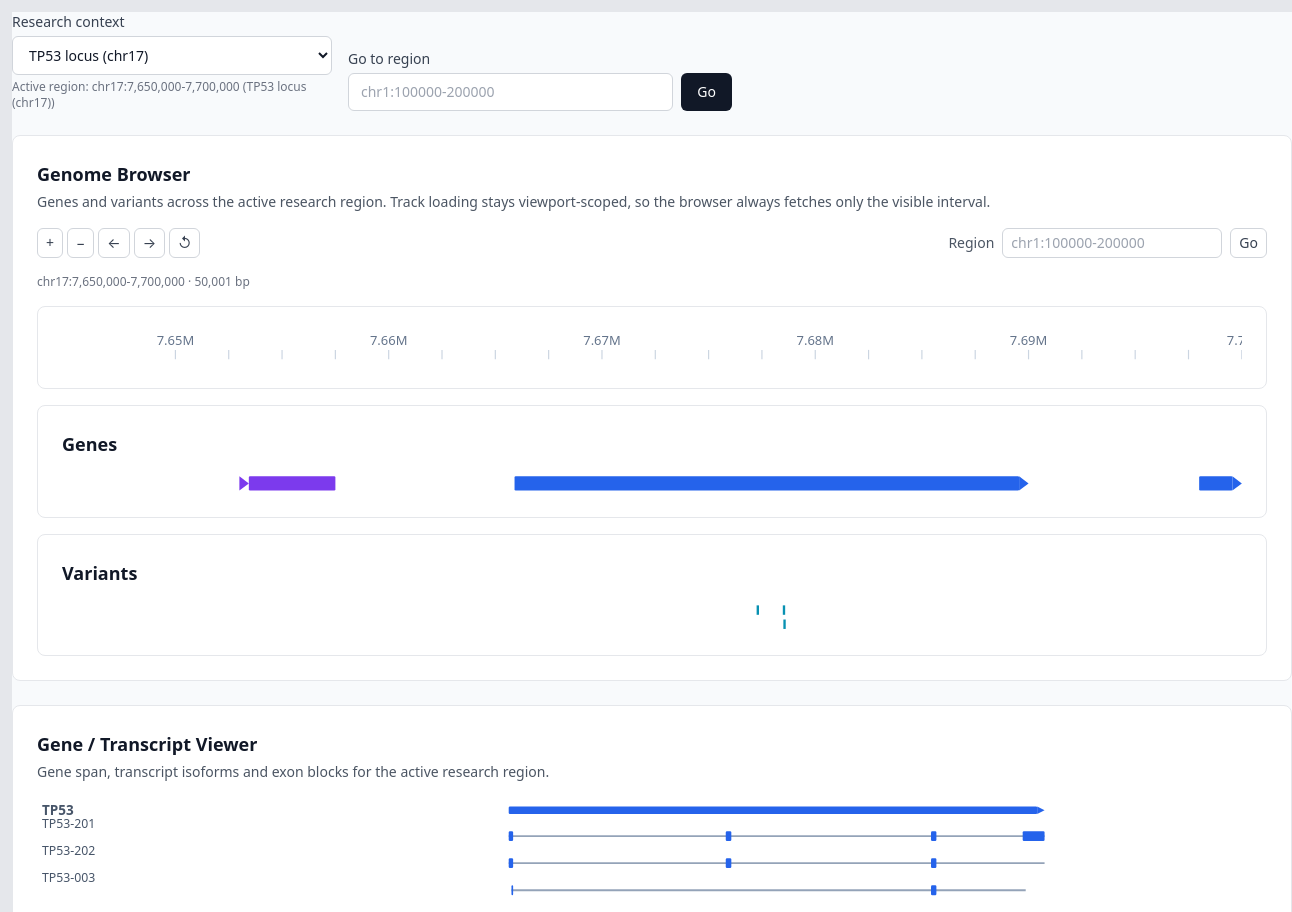
Test: ResearchWorkspace › drives the genome browser tracks with the shared context region
This screenshot has width=1292, height=912.
Select "BRCA1 locus (chr17)" in the dropdown labelled "Research context" at (172, 56), box left=12, top=36, right=332, bottom=75
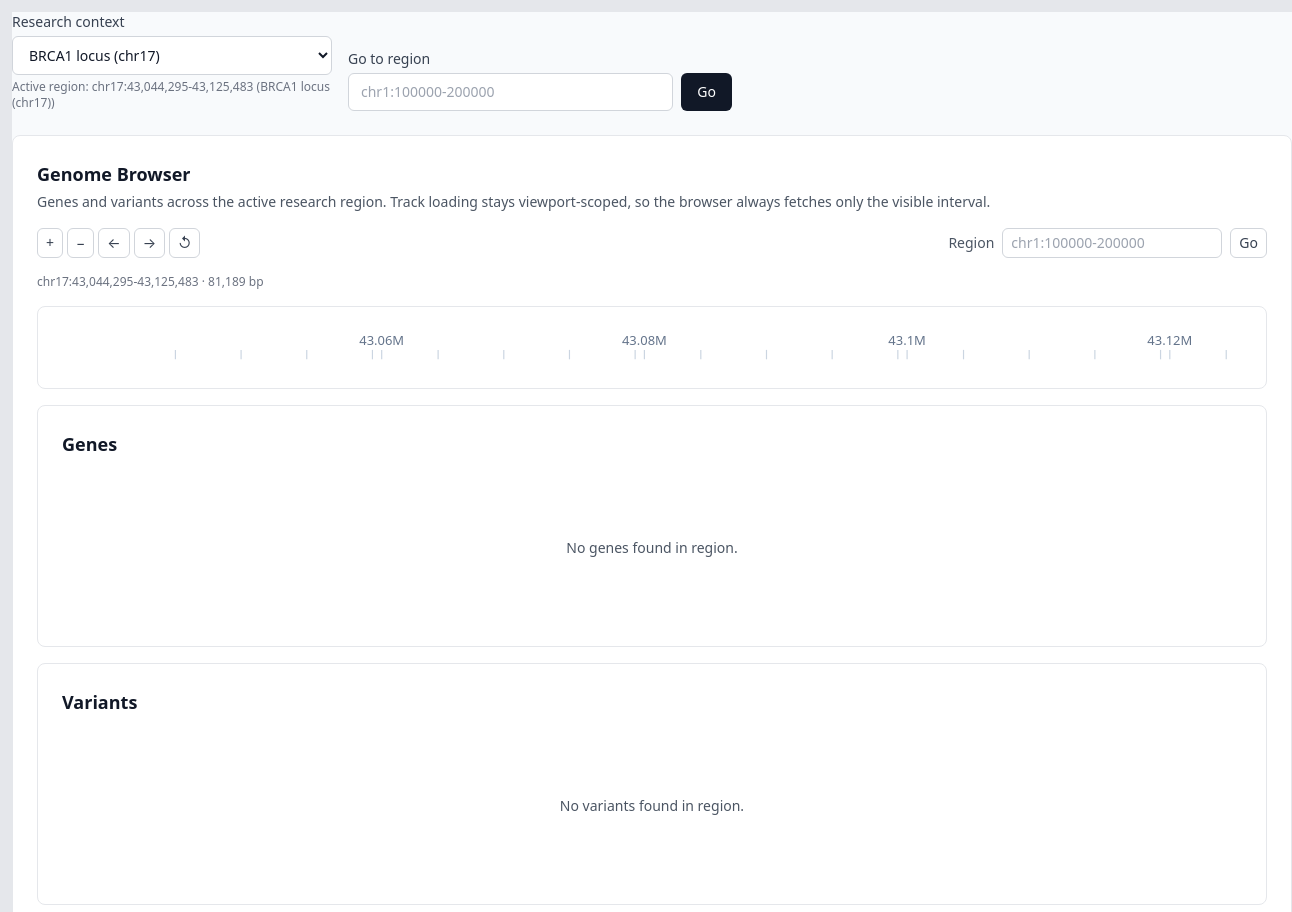
Check: the text with test id "active-context" shows "BRCA1 locus (chr17)", box left=12, top=78, right=330, bottom=111
